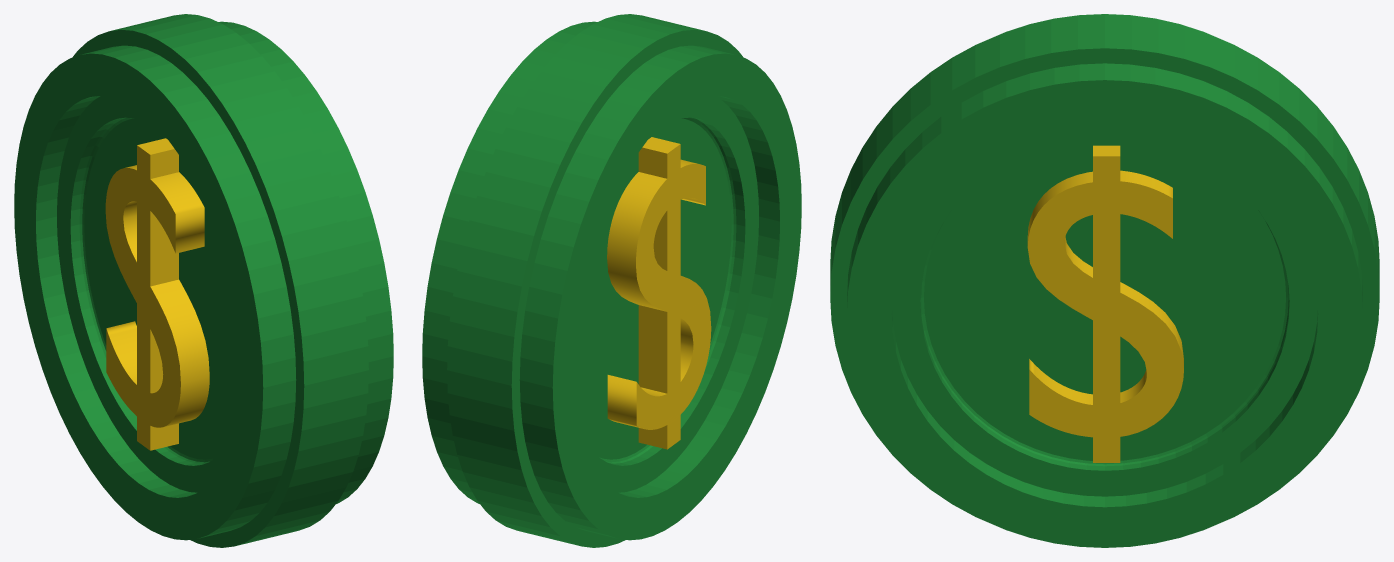
File: dolarcoin.gltf
3 renders of one model, left to right at view 1: azimuth 30°, elevation 25°; view 2: azimuth 150°, elevation 25°; view 3: azimuth 270°, elevation 25°, orthographic. The views are drawn at different scales.
Parts seen in each view (by area): view 1: Cube; view 2: Cube; view 3: Cube.
Part boxes in pixels (x1,y1,x2,y2): Cube: (14, 14, 393, 547); Cube: (422, 14, 801, 547); Cube: (830, 14, 1379, 547).
Bounding box in the file's own units: 0.569 × 2 × 2.
